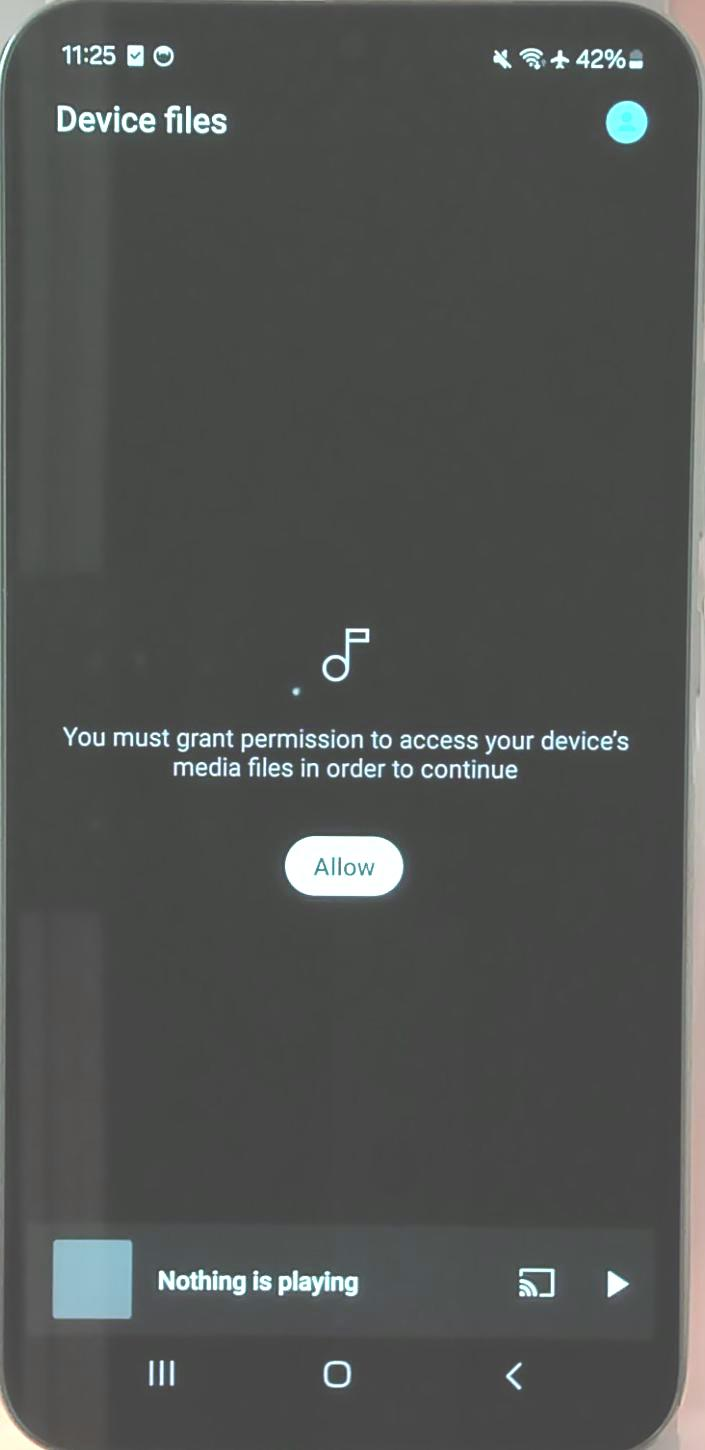CommunBotton: (276, 814, 436, 914), (496, 1216, 566, 1326), (310, 1342, 388, 1400), (594, 1228, 638, 1312), (590, 88, 652, 146), (484, 1356, 542, 1406), (138, 1346, 180, 1404)
